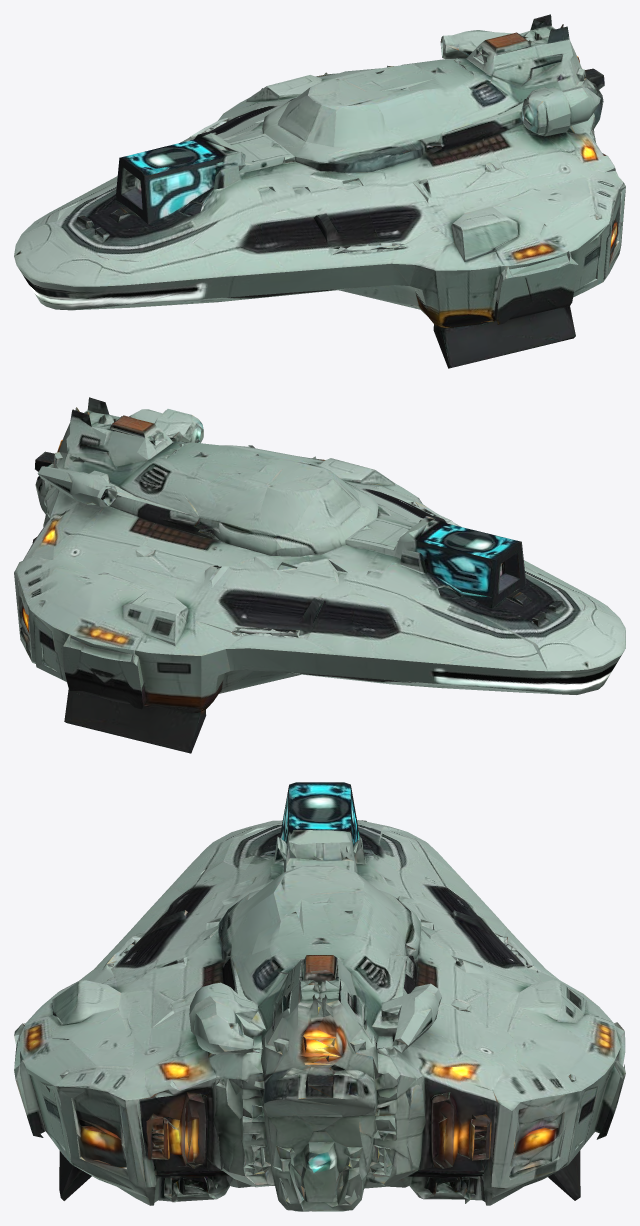
Rendered from vessel-aegis.glb.
3 views of the same model, one above another, from view 1: azimuth 30°, elevation 25°; view 2: azimuth 150°, elevation 25°; view 3: azimuth 270°, elevation 25° (orthographic). The views are drawn at different scales.
Bounding box in the file's own units: 1.9 × 0.693 × 1.43.
1 material, 1 textured.
